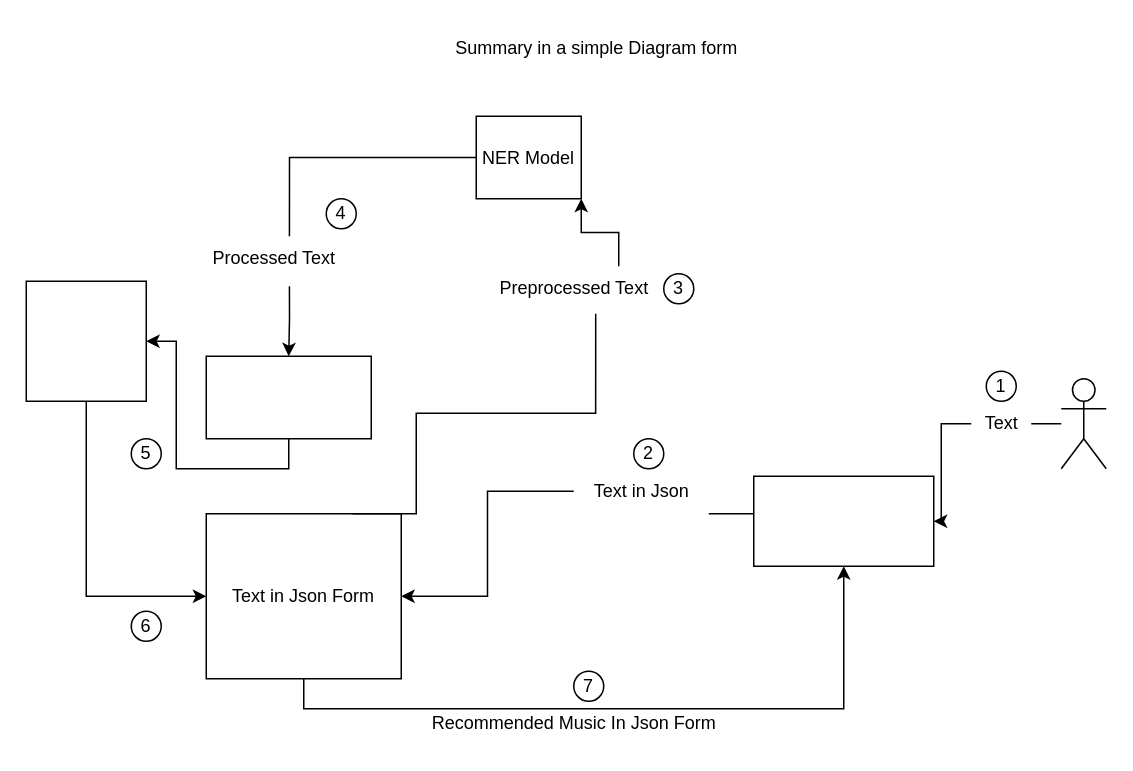
Image size: 1133x771. Some labels were removed from this diagram. The shapes that lost their labels are listed below. From the top down, each one's box as (x1, y1, x2, y2) in pixels, then its label:
(25, 280, 146, 401): DataBase
(205, 355, 371, 439): Recommendation System
(1060, 377, 1106, 469): User
(752, 475, 934, 566): Screen
